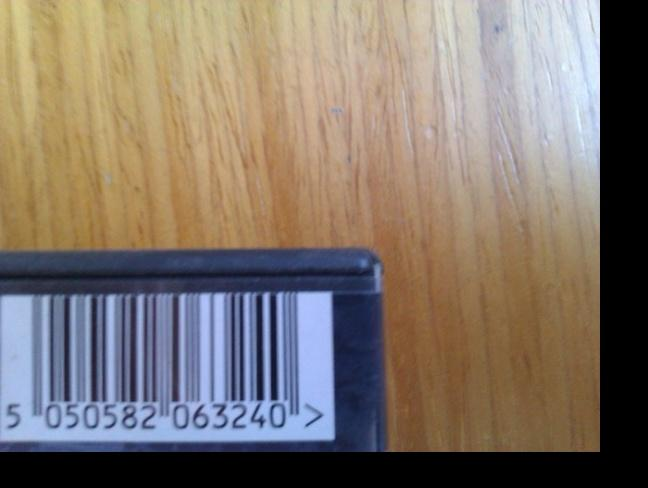Barcode: (4, 293, 305, 433)
